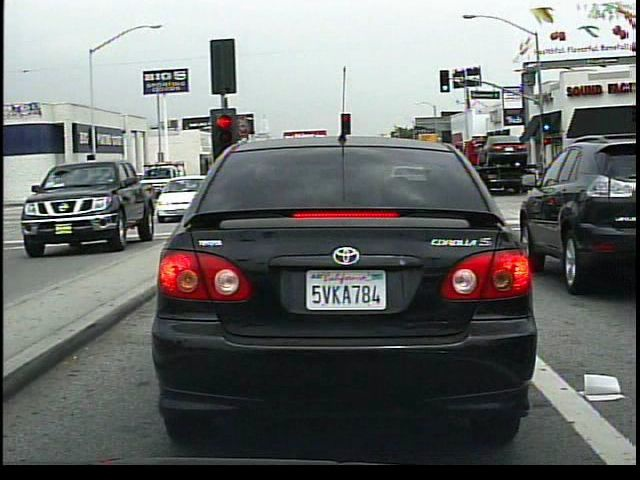person: (174, 168, 195, 194)
